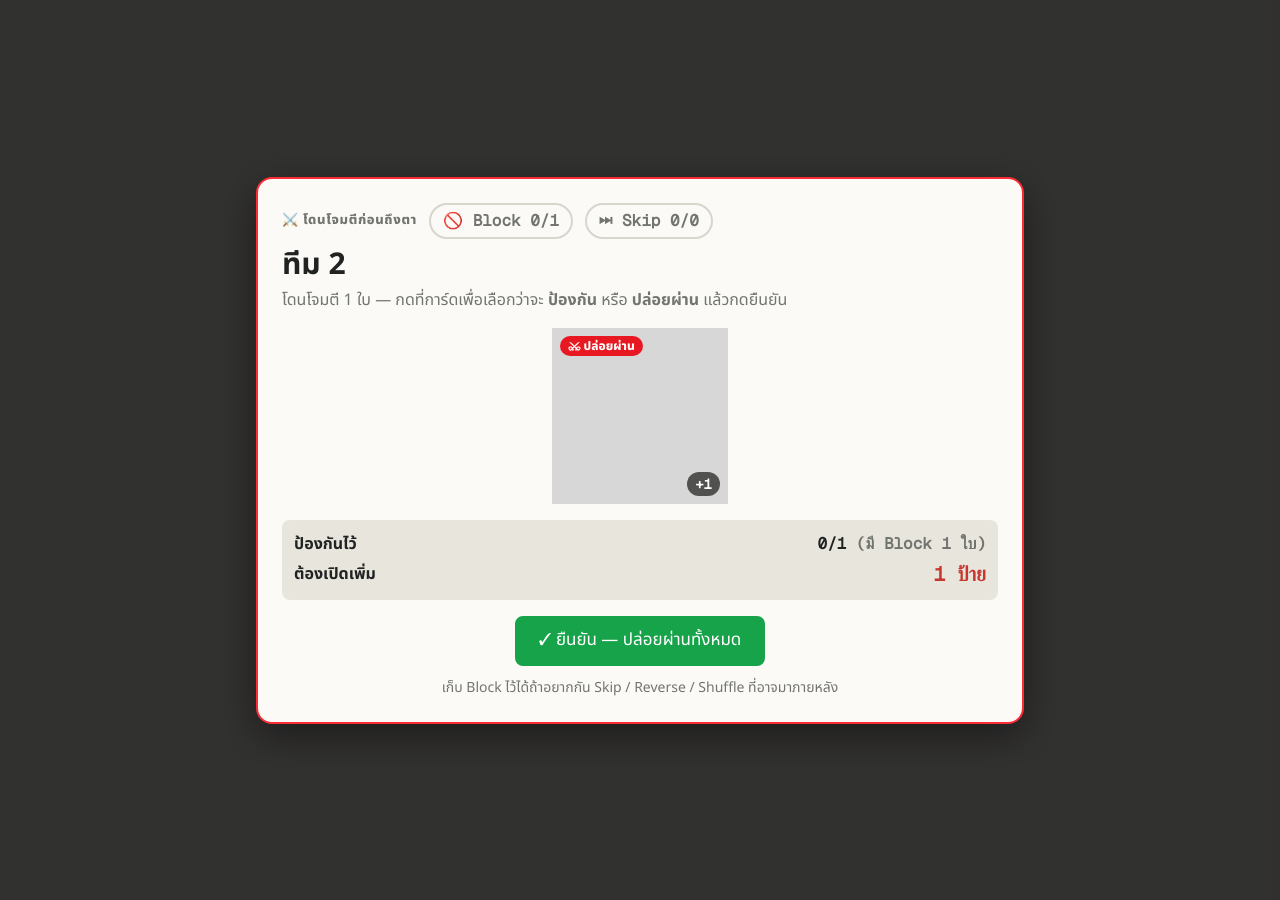
Test: ชุดที่สิบสอง #3: hover การ์ดแล้วขึ้นคำอธิบาย effect
Hover over the button named "Attack" at (640, 416), box [552,328,728,504]
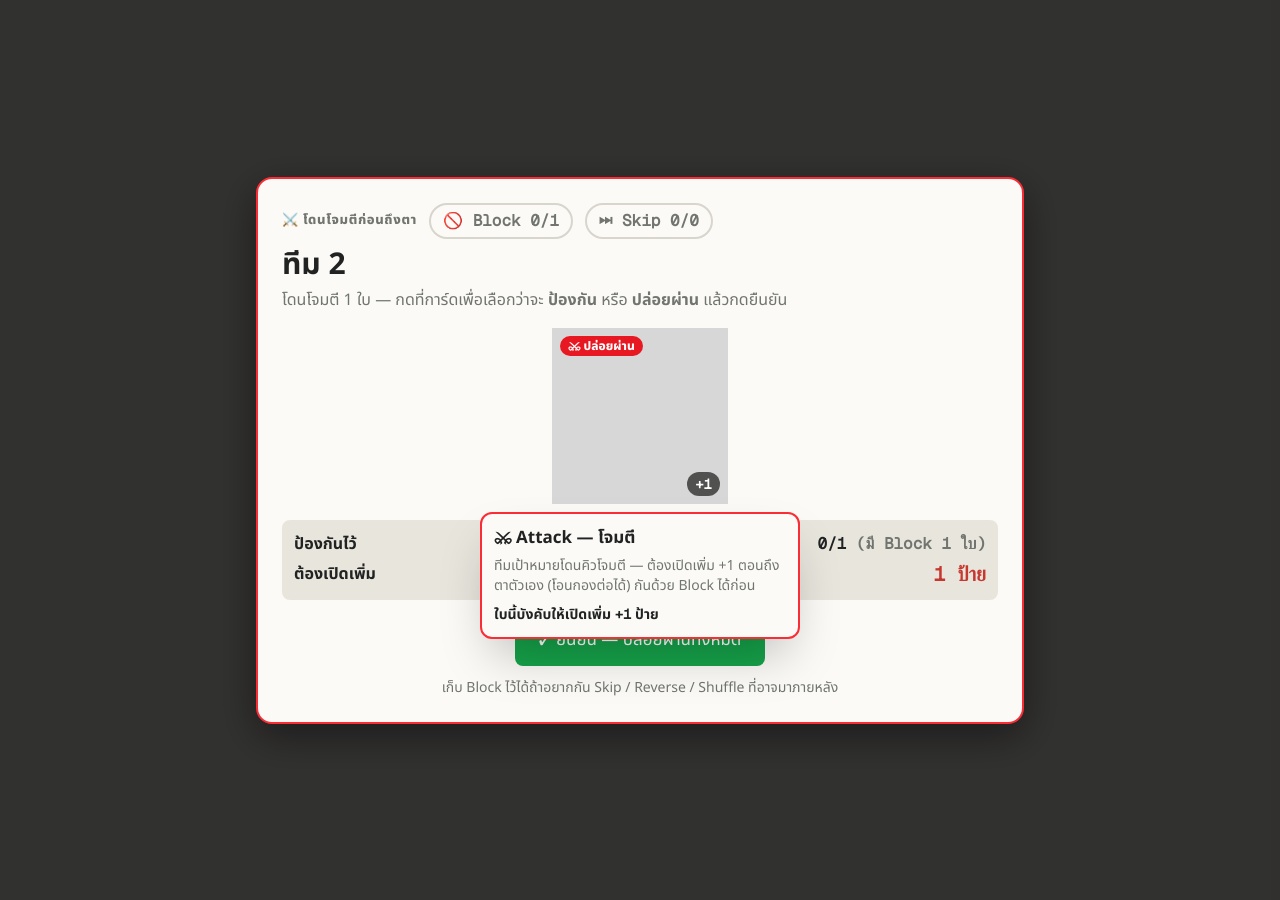
Result: the tooltip is shown at [480,512,800,638]
Result: the tooltip shows "ต้องเปิดเพิ่ม" at [494,554,780,596]
Move the pointer off the button named "Attack", box [552,328,728,504]
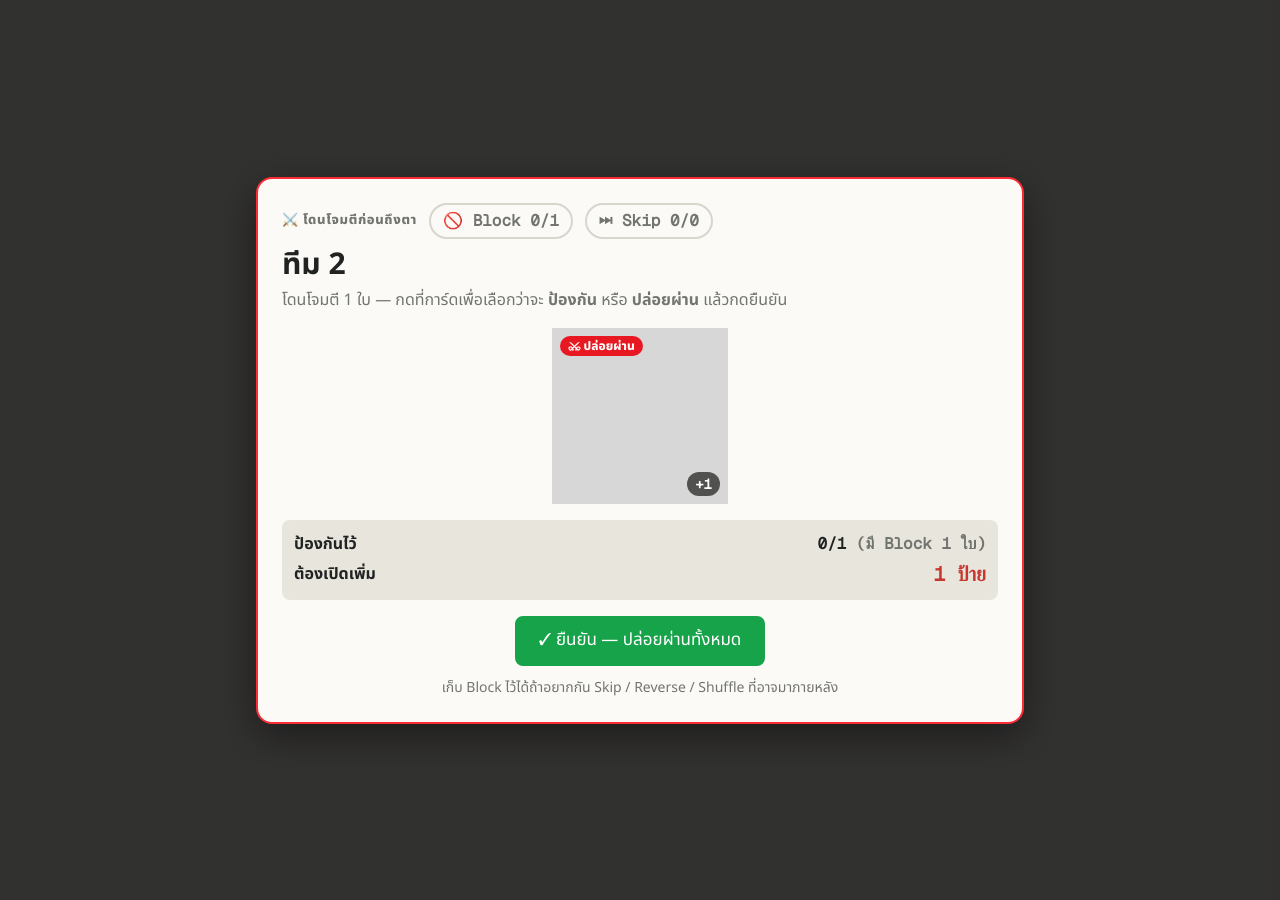
Result: the tooltip is gone
